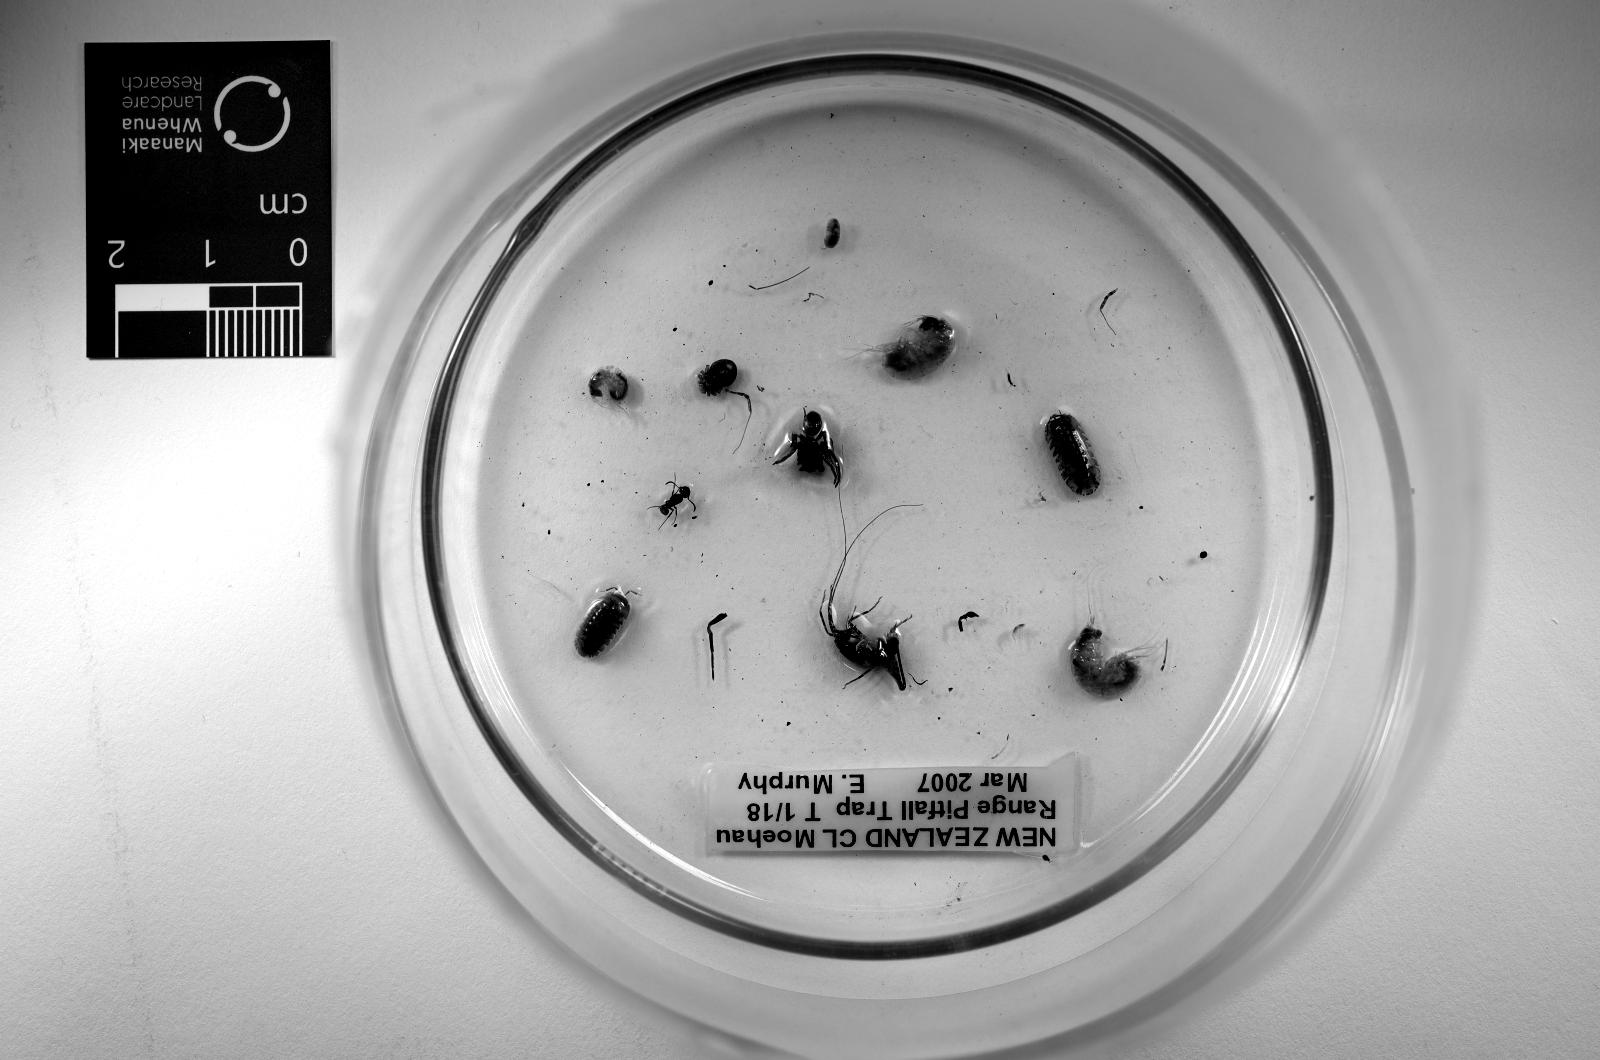amphipoda: (869, 317, 953, 379), (1069, 625, 1141, 696), (588, 367, 628, 403)
araneae: (775, 409, 841, 487)
formicidae: (653, 481, 697, 522)
isopoda: (1044, 413, 1100, 493), (575, 590, 631, 658), (825, 218, 841, 248)
opiliones: (697, 360, 750, 409)
orthoptera: (818, 531, 906, 690)
